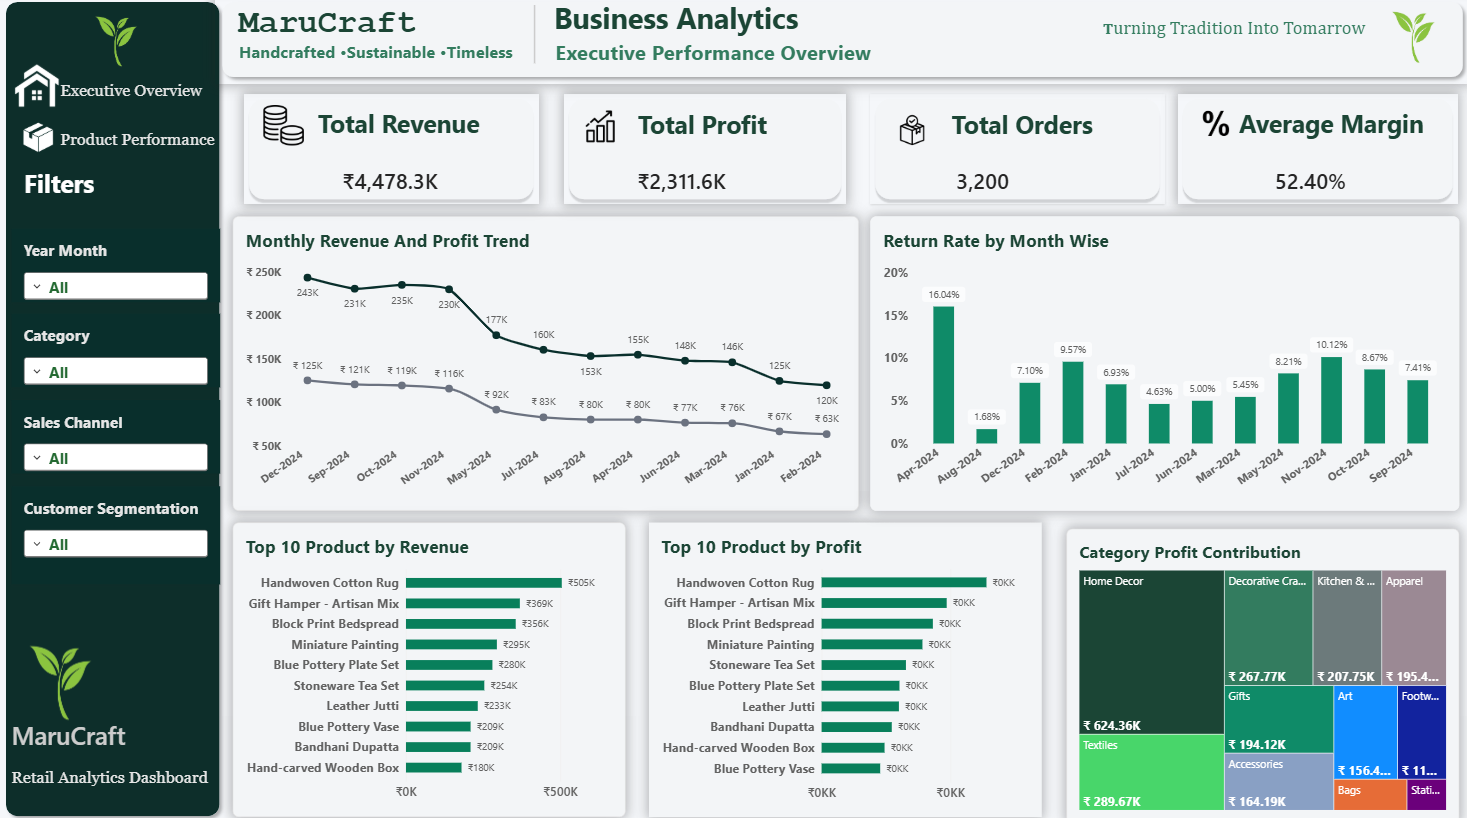

What the dashboard file says about the page in this screenshot:
{"tool":"powerbi","page":{"name":"Executive Overview","canvas":[1920,1080],"ordinal":0},"visuals":[{"type":"shape","box":[0,0,296.3,1079.5],"z":0},{"type":"shape","box":[320,128,384,144],"z":0,"group":"g1"},{"type":"shape","box":[736,128,368,144],"z":0,"group":"g2"},{"type":"shape","box":[1136,128,384,144],"z":0,"group":"g3"},{"type":"shape","box":[1536,128,365,144],"z":0,"group":"g4"},{"type":"shape","box":[281.1,0,1635.3,115.9],"z":1000},{"type":"image","box":[345,142,54.3,52.7],"z":1000,"group":"g1"},{"type":"image","box":[1559.8,142,51.6,52.7],"z":1000,"group":"g4"},{"type":"image","box":[758.7,142.5,49.2,54.3],"z":1000,"group":"g2"},{"type":"image","box":[1154.4,143.5,73.7,62],"z":1000,"group":"g3"},{"type":"textbox","box":[295.2,12.7,248.2,103.2],"z":2000},{"type":"textbox","box":[416,144,240,48],"z":2000,"group":"g1"},{"type":"textbox","box":[1616,144,288,64],"z":2000,"group":"g4"},{"type":"textbox","box":[1242.4,145.6,217,47.4],"z":2000,"group":"g3"},{"type":"textbox","box":[832.6,146.1,196.9,48.9],"z":2000,"group":"g2"},{"type":"textbox","box":[313.4,58,367.7,48.9],"z":3000},{"type":"shape","box":[666.6,12.7,63.4,76.1],"z":4000},{"type":"textbox","box":[722.7,5.4,371.3,61.6],"z":5000},{"type":"textbox","box":[724.5,56.2,423.8,48.9],"z":6000},{"type":"textbox","box":[1438.2,30.8,367.7,48.9],"z":7000},{"type":"image","box":[1785.2,0,115.9,110.5],"z":8000},{"type":"image","box":[58,6.2,188.4,108],"z":9000},{"type":"textbox","box":[80,112,208,48],"z":10000},{"type":"textbox","box":[80,176,208,48],"z":11000},{"type":"image","box":[0,128,102.5,114.1],"z":12000},{"type":"image","box":[0,64,99.3,108.7],"z":13000},{"type":"textbox","box":[16,944,256,96],"z":14000},{"type":"textbox","box":[16,1008,272,32],"z":15000},{"type":"image","box":[0,752,160,288],"z":16000},{"type":"lineChart","title":"Monthly Revenue And Profit Trend","fields":{"Category":["marucraft_orders.month_name_year"],"Y":["Sum(marucraft_orders.profit)","Sum(marucraft_orders.revenue)"]},"box":[304,288,816,384],"z":17000},{"type":"clusteredBarChart","title":"Top 10 Product by Revenue","fields":{"Category":["marucraft_orders.product_name"],"Y":["marucraft_orders.Total Revenue"]},"box":[304,688,512,384],"z":18000},{"type":"group","id":"g1","title":"Group 1","box":[320,128,384,144],"z":19000},{"type":"group","id":"g2","title":"Group 1","box":[736,128,368,144],"z":20000},{"type":"group","id":"g3","title":"Group 1","box":[1136,128,384,144],"z":21000},{"type":"group","id":"g4","title":"Group 1","box":[1536,128,368,144],"z":22000},{"type":"cardVisual","fields":{"Data":["marucraft_orders.Total Profit Display"]},"box":[816,208,176,64],"z":23000},{"type":"cardVisual","fields":{"Data":["marucraft_orders.Total Revenue Display"]},"box":[432,208,160,64],"z":24000},{"type":"cardVisual","fields":{"Data":["marucraft_orders.Total Orders Display"]},"box":[1232,192,144,96],"z":25000},{"type":"cardVisual","fields":{"Data":["marucraft_orders.Average Margin Display"]},"box":[1648,208,160,64],"z":26000},{"type":"clusteredBarChart","title":"Top 10 Product by Profit","fields":{"Category":["marucraft_orders.product_name"],"Y":["marucraft_orders.Total Profit"]},"box":[848,688,512,384],"z":27000},{"type":"treemap","title":"Category Profit Contribution","fields":{"Group":["marucraft_orders.category"],"Values":["Sum(marucraft_orders.profit)"]},"box":[1392,696,512,384],"z":28000},{"type":"lineStackedColumnComboChart","title":"Return Rate by Month Wise","fields":{"Category":["marucraft_orders.month_name_year"],"Y":["marucraft_orders.Return_rate"]},"box":[1136,288,768,384],"z":29000},{"type":"textbox","box":[32,224,144,64],"z":30000},{"type":"listSlicer","title":"Category","fields":{"Values":["marucraft_orders.category"]},"box":[16,416,272,96],"z":31000},{"type":"listSlicer","title":"Sales Channel","fields":{"Values":["marucraft_orders.sales_channel"]},"box":[16,528,272,96],"z":32000},{"type":"listSlicer","title":"Customer Segmentation","fields":{"Values":["marucraft_orders.customer_segment"]},"box":[16,640,272,128],"z":33000},{"type":"listSlicer","title":"Year Month","fields":{"Values":["marucraft_orders.order_date.Variation.Date Hierarchy.Year","marucraft_orders.order_date.Variation.Date Hierarchy.Month"]},"box":[16,304,272,96],"z":34000},{"type":"actionButton","box":[80,176,208,32],"z":35000}]}

Visuals, with their boxes on the page's 1920x1080 design canvas (x1, y1, x2, y2). These are canvas units, not pixel positions in the 1467x818 screenshot, which may show the page scaled, cropped or inside an application window:
shape: left=0, top=0, right=296, bottom=1080
shape: left=320, top=128, right=704, bottom=272
shape: left=736, top=128, right=1104, bottom=272
shape: left=1136, top=128, right=1520, bottom=272
shape: left=1536, top=128, right=1901, bottom=272
shape: left=281, top=0, right=1916, bottom=116
image: left=345, top=142, right=399, bottom=195
image: left=1560, top=142, right=1611, bottom=195
image: left=759, top=142, right=808, bottom=197
image: left=1154, top=144, right=1228, bottom=206
textbox: left=295, top=13, right=543, bottom=116
textbox: left=416, top=144, right=656, bottom=192
textbox: left=1616, top=144, right=1904, bottom=208
textbox: left=1242, top=146, right=1459, bottom=193
textbox: left=833, top=146, right=1030, bottom=195
textbox: left=313, top=58, right=681, bottom=107
shape: left=667, top=13, right=730, bottom=89
textbox: left=723, top=5, right=1094, bottom=67
textbox: left=724, top=56, right=1148, bottom=105
textbox: left=1438, top=31, right=1806, bottom=80
image: left=1785, top=0, right=1901, bottom=110
image: left=58, top=6, right=246, bottom=114
textbox: left=80, top=112, right=288, bottom=160
textbox: left=80, top=176, right=288, bottom=224
image: left=0, top=128, right=102, bottom=242
image: left=0, top=64, right=99, bottom=173
textbox: left=16, top=944, right=272, bottom=1040
textbox: left=16, top=1008, right=288, bottom=1040
image: left=0, top=752, right=160, bottom=1040
"Monthly Revenue And Profit Trend" lineChart: left=304, top=288, right=1120, bottom=672
"Top 10 Product by Revenue" clusteredBarChart: left=304, top=688, right=816, bottom=1072
"Group 1" group: left=320, top=128, right=704, bottom=272
"Group 1" group: left=736, top=128, right=1104, bottom=272
"Group 1" group: left=1136, top=128, right=1520, bottom=272
"Group 1" group: left=1536, top=128, right=1904, bottom=272
cardVisual - marucraft_orders.Total Profit Display: left=816, top=208, right=992, bottom=272
cardVisual - marucraft_orders.Total Revenue Display: left=432, top=208, right=592, bottom=272
cardVisual - marucraft_orders.Total Orders Display: left=1232, top=192, right=1376, bottom=288
cardVisual - marucraft_orders.Average Margin Display: left=1648, top=208, right=1808, bottom=272
"Top 10 Product by Profit" clusteredBarChart: left=848, top=688, right=1360, bottom=1072
"Category Profit Contribution" treemap: left=1392, top=696, right=1904, bottom=1080
"Return Rate by Month Wise" lineStackedColumnComboChart: left=1136, top=288, right=1904, bottom=672
textbox: left=32, top=224, right=176, bottom=288
"Category" listSlicer: left=16, top=416, right=288, bottom=512
"Sales Channel" listSlicer: left=16, top=528, right=288, bottom=624
"Customer Segmentation" listSlicer: left=16, top=640, right=288, bottom=768
"Year Month" listSlicer: left=16, top=304, right=288, bottom=400
actionButton: left=80, top=176, right=288, bottom=208
